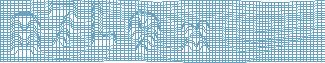7: (47, 2, 79, 47)
9: (127, 9, 163, 56)
B: (8, 11, 42, 58)
L: (89, 2, 117, 49)
x: (179, 19, 211, 53)
